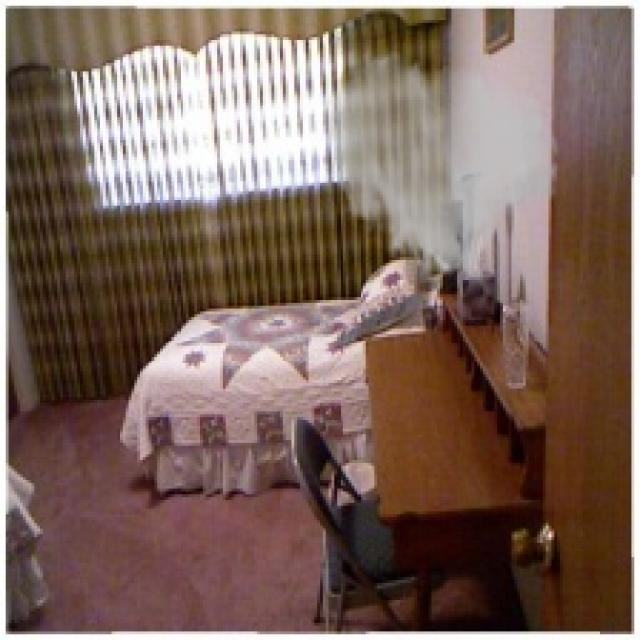smoke: (323, 48, 563, 292)
